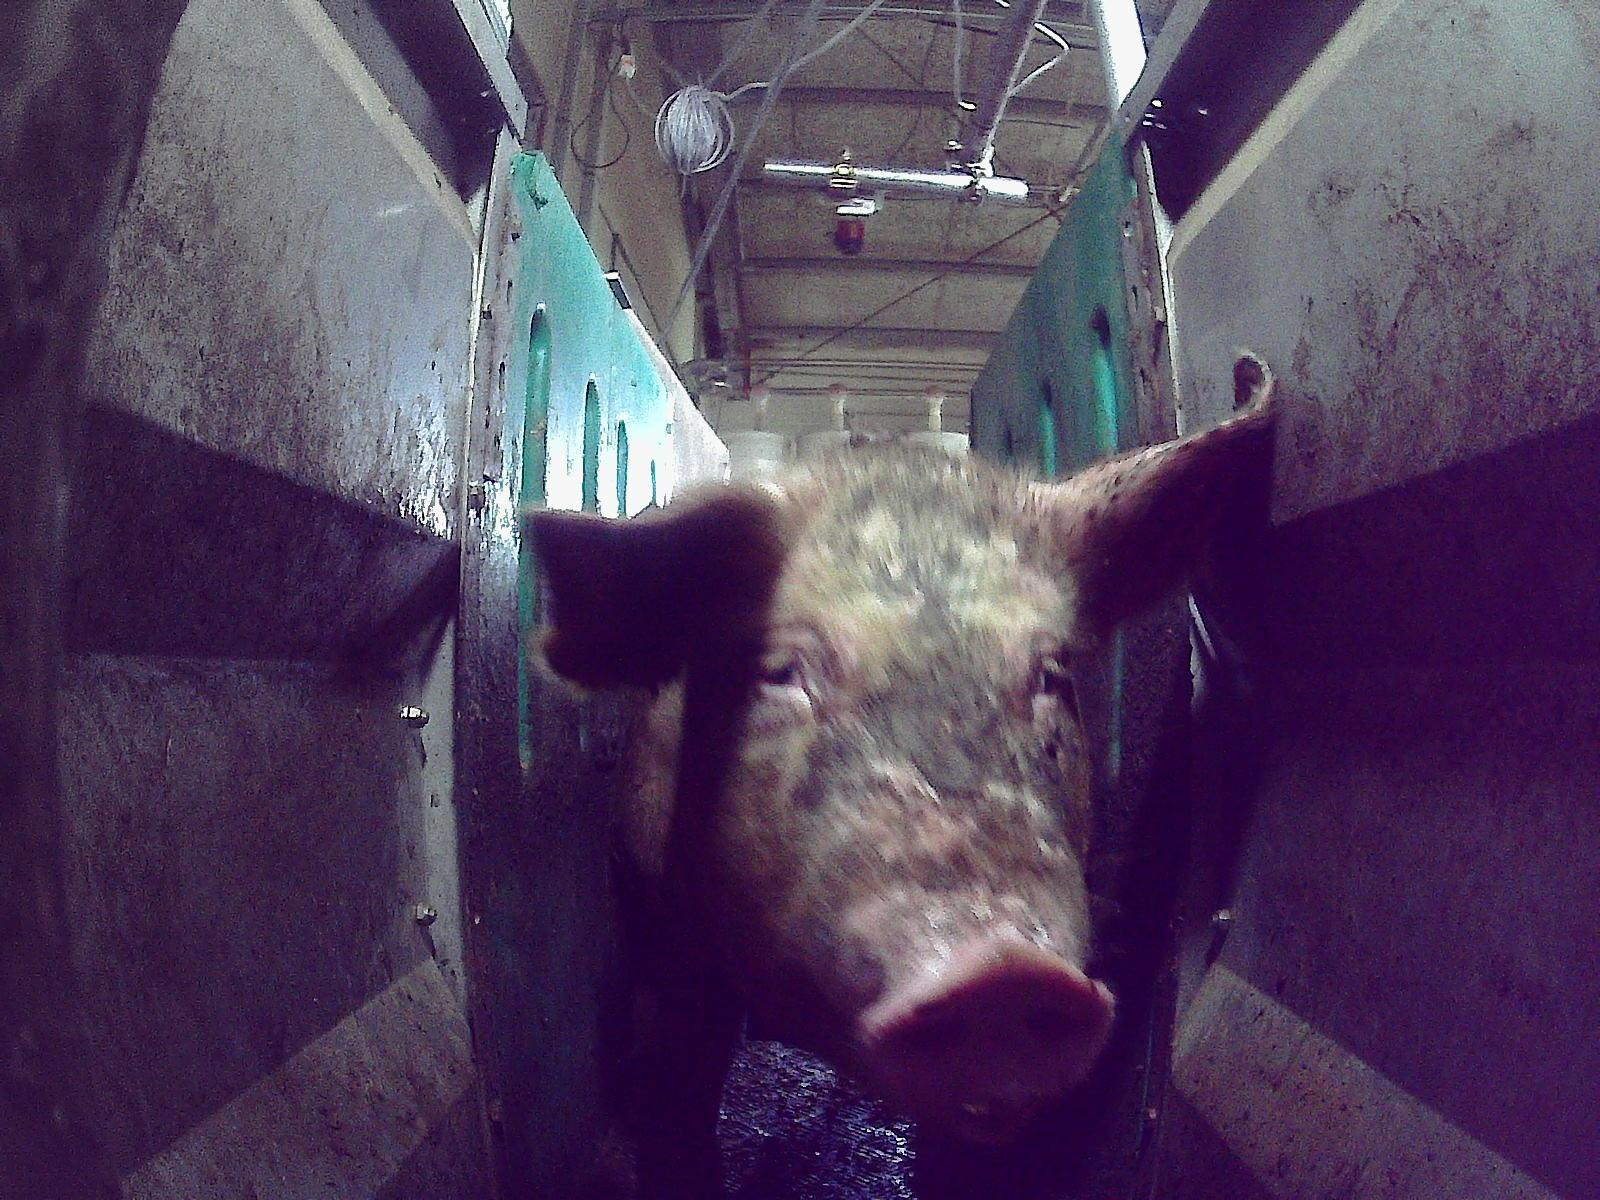Face: (668, 428, 1116, 1148)
